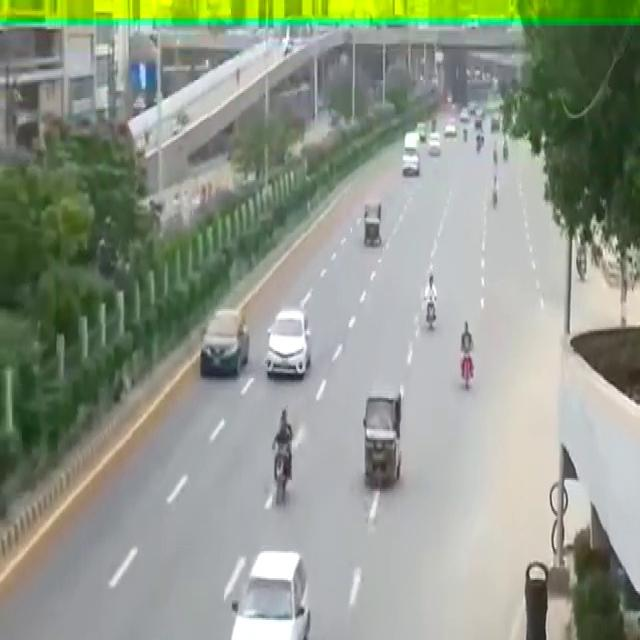car: (222, 527, 326, 640), (196, 296, 254, 382), (263, 308, 310, 378)
motorbike: (270, 413, 299, 507), (456, 306, 482, 396), (422, 268, 441, 328), (491, 171, 505, 211)
truck: (399, 124, 421, 187)
